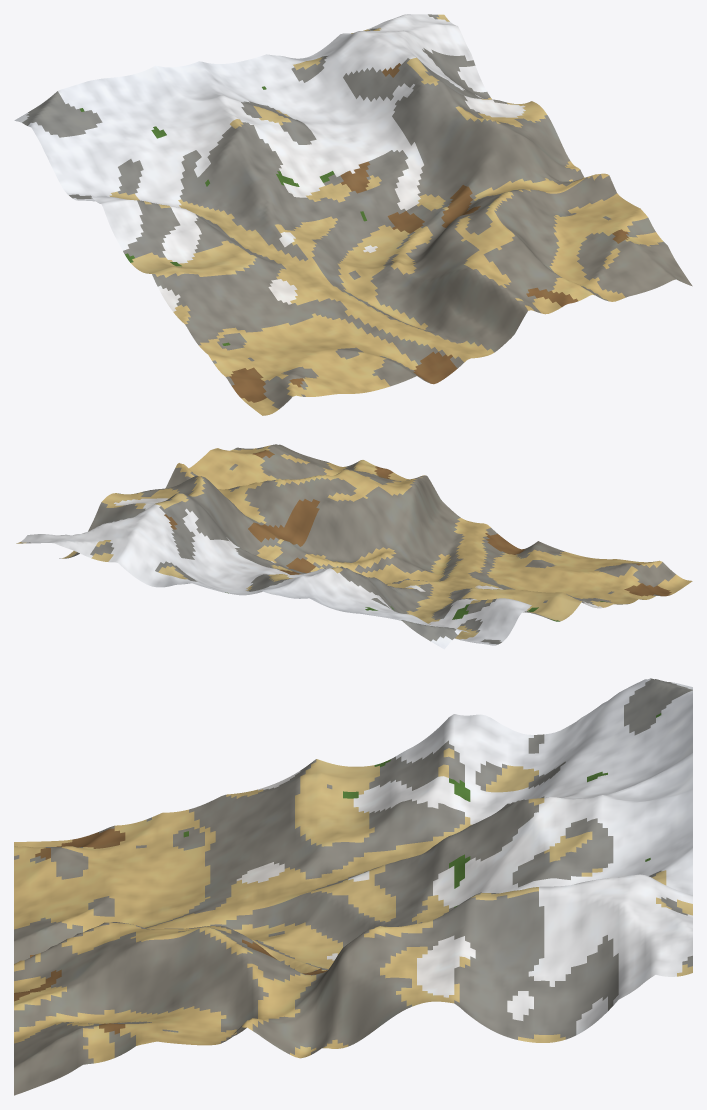
The model's file is chunk_7_3.glb.
The picture shows the model from 3 angles, top to bottom: view 1: azimuth 30°, elevation 25°; view 2: azimuth 150°, elevation 25°; view 3: azimuth 270°, elevation 25°; orthographic projection. The views are drawn at different scales.
Parts seen in each view (by area): view 1: Surface_Gravel, Surface_Snow, Surface_Sand, Surface_Dirt; view 2: Surface_Gravel, Surface_Sand, Surface_Snow, Surface_Dirt; view 3: Surface_Gravel, Surface_Snow, Surface_Sand, Surface_Dirt, Surface_Grass.
Part boxes in pixels (bbox=[...]): Surface_Gravel: bbox=[22, 14, 692, 409]; Surface_Snow: bbox=[14, 14, 525, 311]; Surface_Sand: bbox=[109, 14, 663, 415]; Surface_Dirt: bbox=[229, 63, 629, 402]; Surface_Gravel: bbox=[21, 444, 675, 644]; Surface_Sand: bbox=[16, 445, 692, 639]; Surface_Snow: bbox=[20, 498, 603, 649]; Surface_Dirt: bbox=[164, 450, 671, 596]; Surface_Gravel: bbox=[14, 678, 692, 1095]; Surface_Snow: bbox=[236, 678, 692, 1034]; Surface_Sand: bbox=[14, 748, 692, 1063]; Surface_Dirt: bbox=[14, 828, 327, 1034]; Surface_Grass: bbox=[183, 713, 661, 907].
Size of the model in its own units: 256 by 83.41 by 256.
